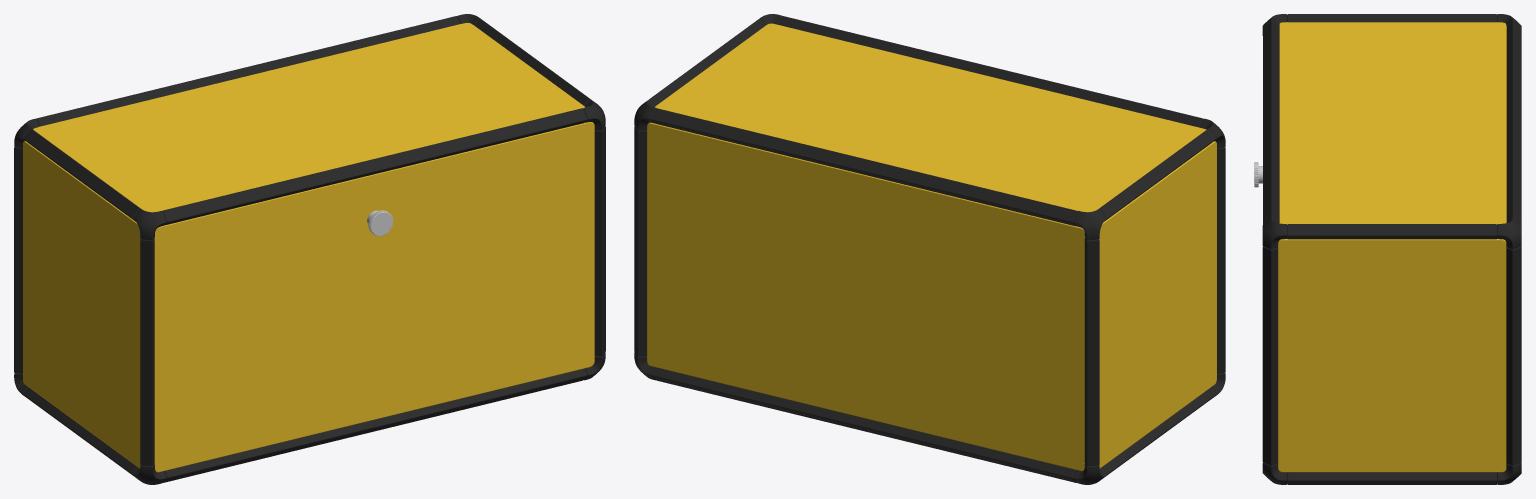
The picture shows the model from 3 angles, left to right: view 1: azimuth 30°, elevation 25°; view 2: azimuth 150°, elevation 25°; view 3: azimuth 270°, elevation 25°; orthographic projection. The views are drawn at different scales.
Visible parts, largest first — view 1: 729x329x374; view 2: 729x329x374; view 3: 729x329x374.
Part boxes in pixels (bbox=[...]): 729x329x374: bbox=[14, 14, 605, 484]; 729x329x374: bbox=[634, 14, 1225, 484]; 729x329x374: bbox=[1254, 14, 1521, 484].
Size of the model in its own units: 0.8067 by 0.4516 by 0.4196.
